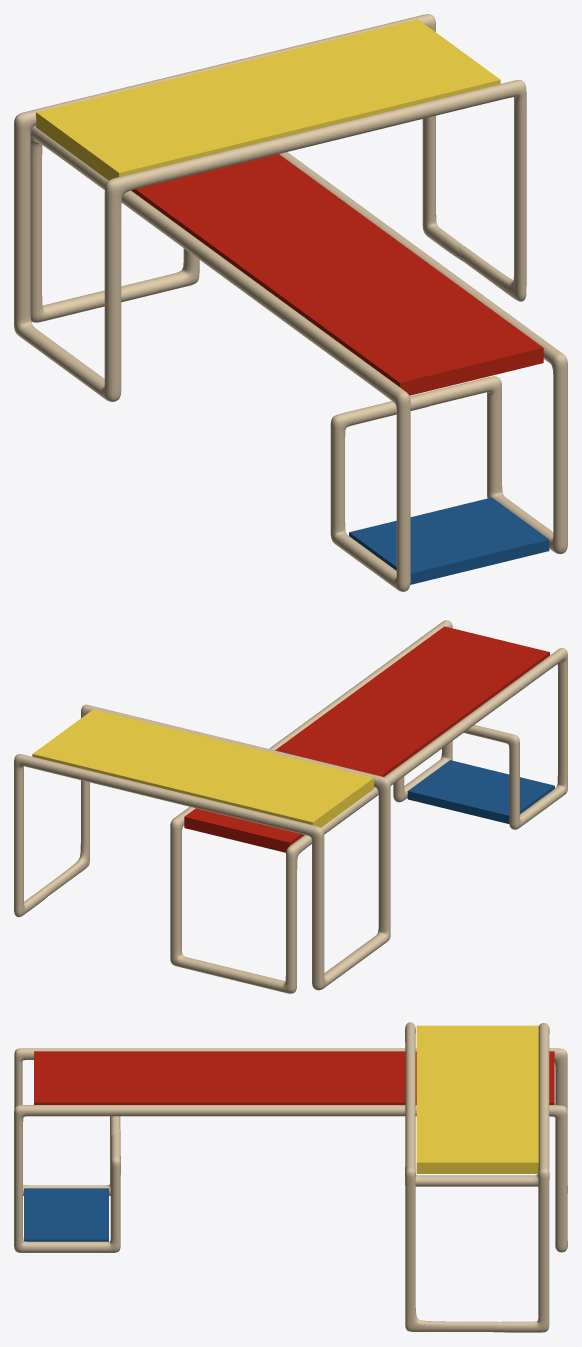
Rendered from mesa nova.fbx.
The picture shows the model from 3 angles, top to bottom: view 1: azimuth 30°, elevation 25°; view 2: azimuth 150°, elevation 25°; view 3: azimuth 270°, elevation 25°; orthographic projection. The views are drawn at different scales.
Visible parts, largest first — view 1: Cube.007, Cube.009, Cube.006, Cube.008, Cube.010; view 2: Cube.007, Cube.009, Cube.006, Cube.008, Cube.010; view 3: Cube.007, Cube.009, Cube.006, Cube.008, Cube.010.
Part boxes in pixels (x1,y1,x2,y2): Cube.007: (131, 154, 543, 395); Cube.009: (36, 19, 500, 180); Cube.006: (30, 125, 567, 591); Cube.008: (14, 14, 526, 401); Cube.010: (349, 497, 549, 584); Cube.007: (184, 626, 549, 852); Cube.009: (32, 709, 373, 827); Cube.006: (170, 620, 567, 993); Cube.008: (14, 704, 390, 990); Cube.010: (407, 760, 554, 823); Cube.007: (34, 1051, 554, 1104); Cube.009: (416, 1025, 538, 1173); Cube.006: (14, 1048, 567, 1252); Cube.008: (405, 1022, 549, 1332); Cube.010: (24, 1188, 108, 1241).
Size of the model in its own units: 835 by 427 by 1296.
